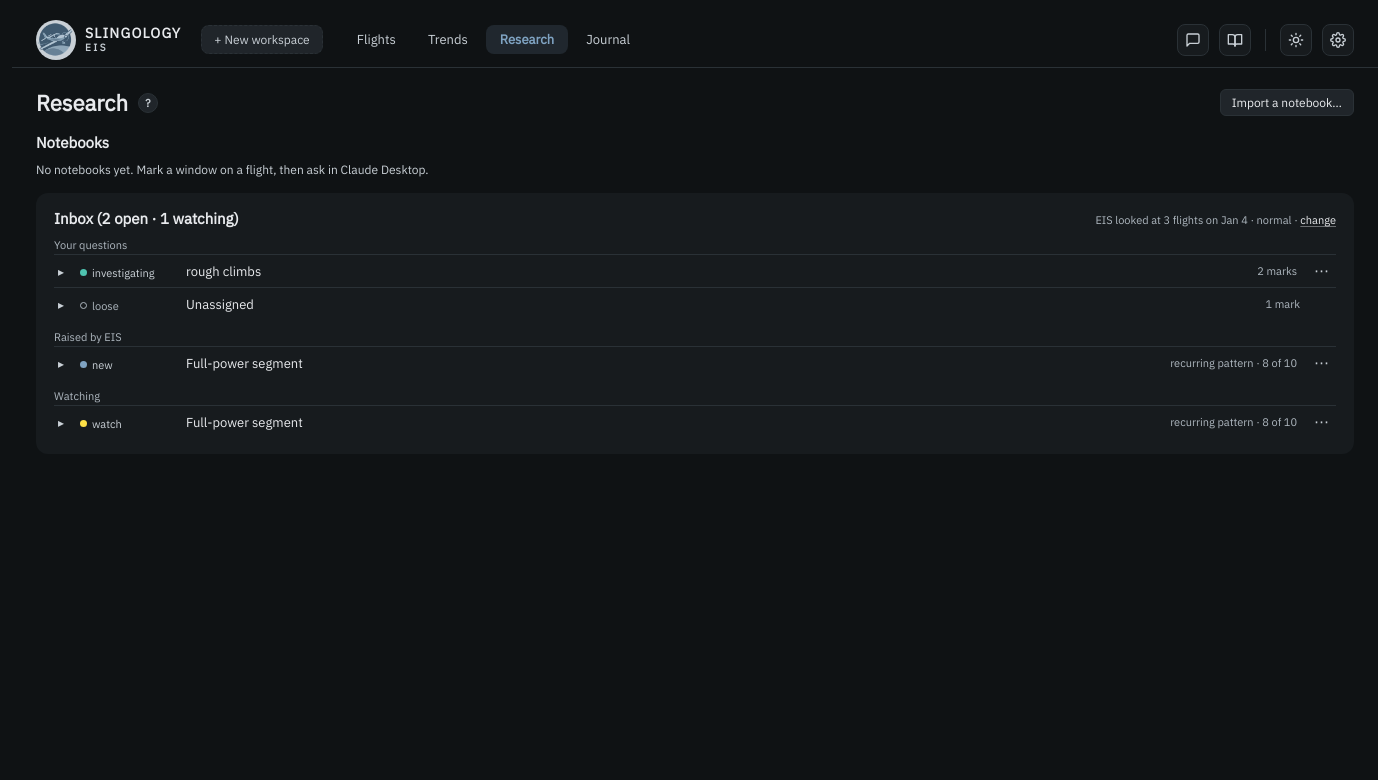
Test case: the owner's questions in the digest (D16) › a question a notebook took up shows Open the investigation when expanded, and nothing else stands
Click the button with test id "inbox-line" that starts with "investigating".
click(123, 272)  # box [54,255,1301,287]
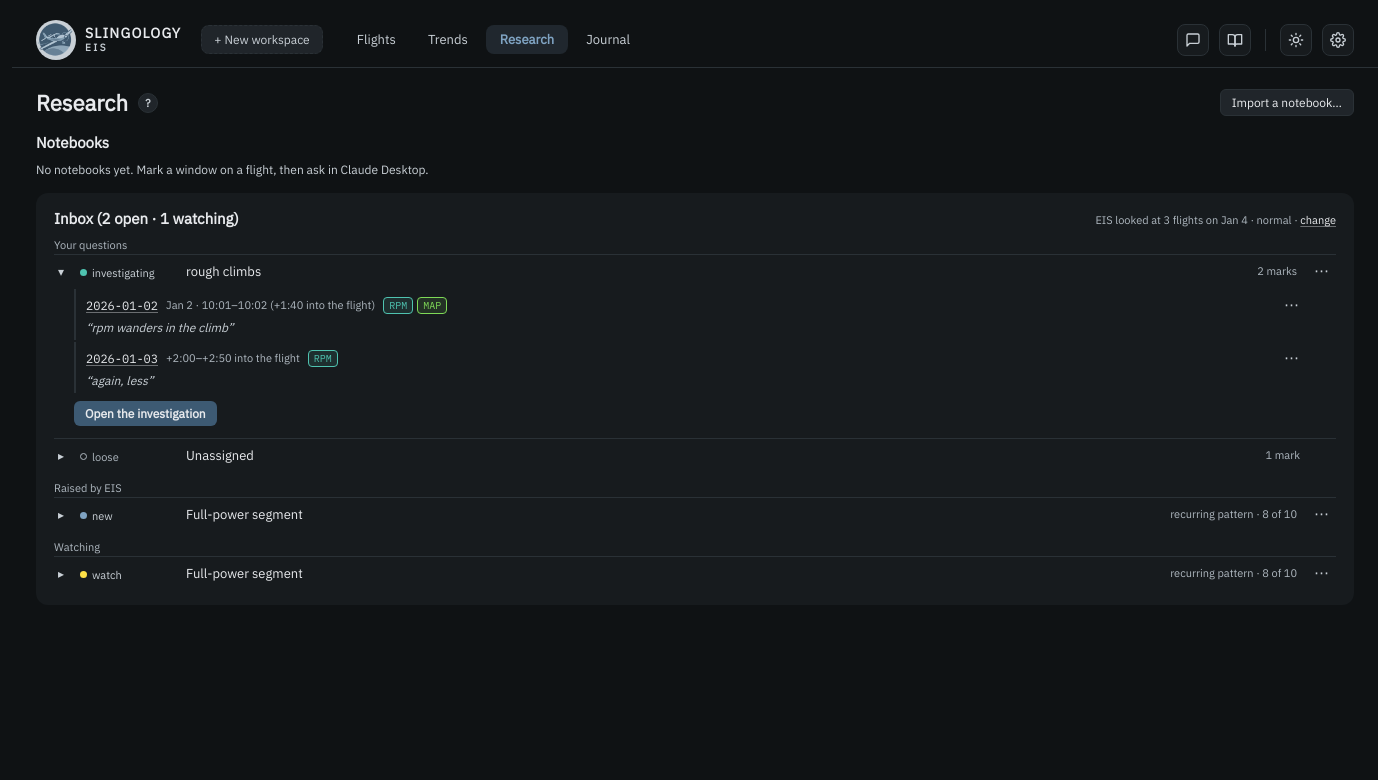
Click the button with test id "question-open-study".
click(145, 414)  # box [74,401,217,426]
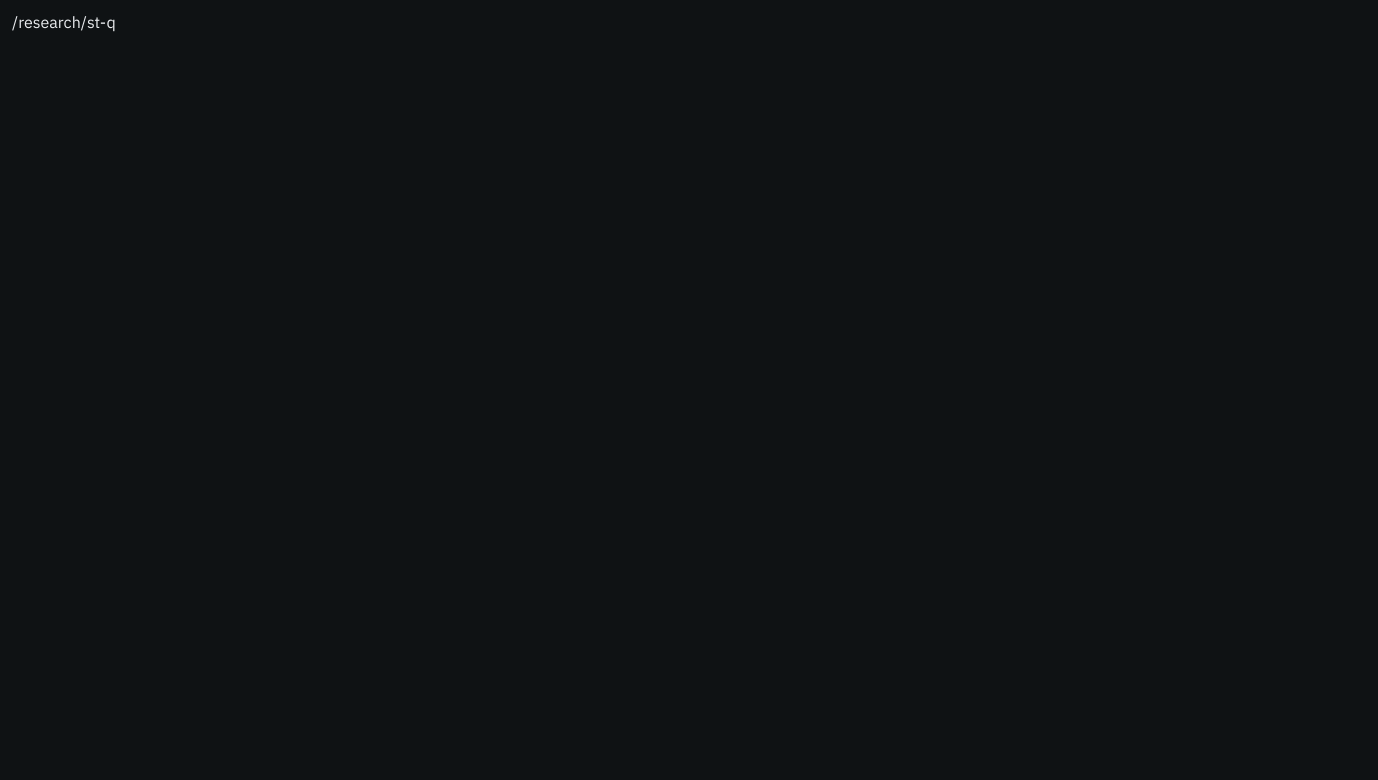
Now the text with test id "where" reads "/research/st-q", box [12,12,116,32]
